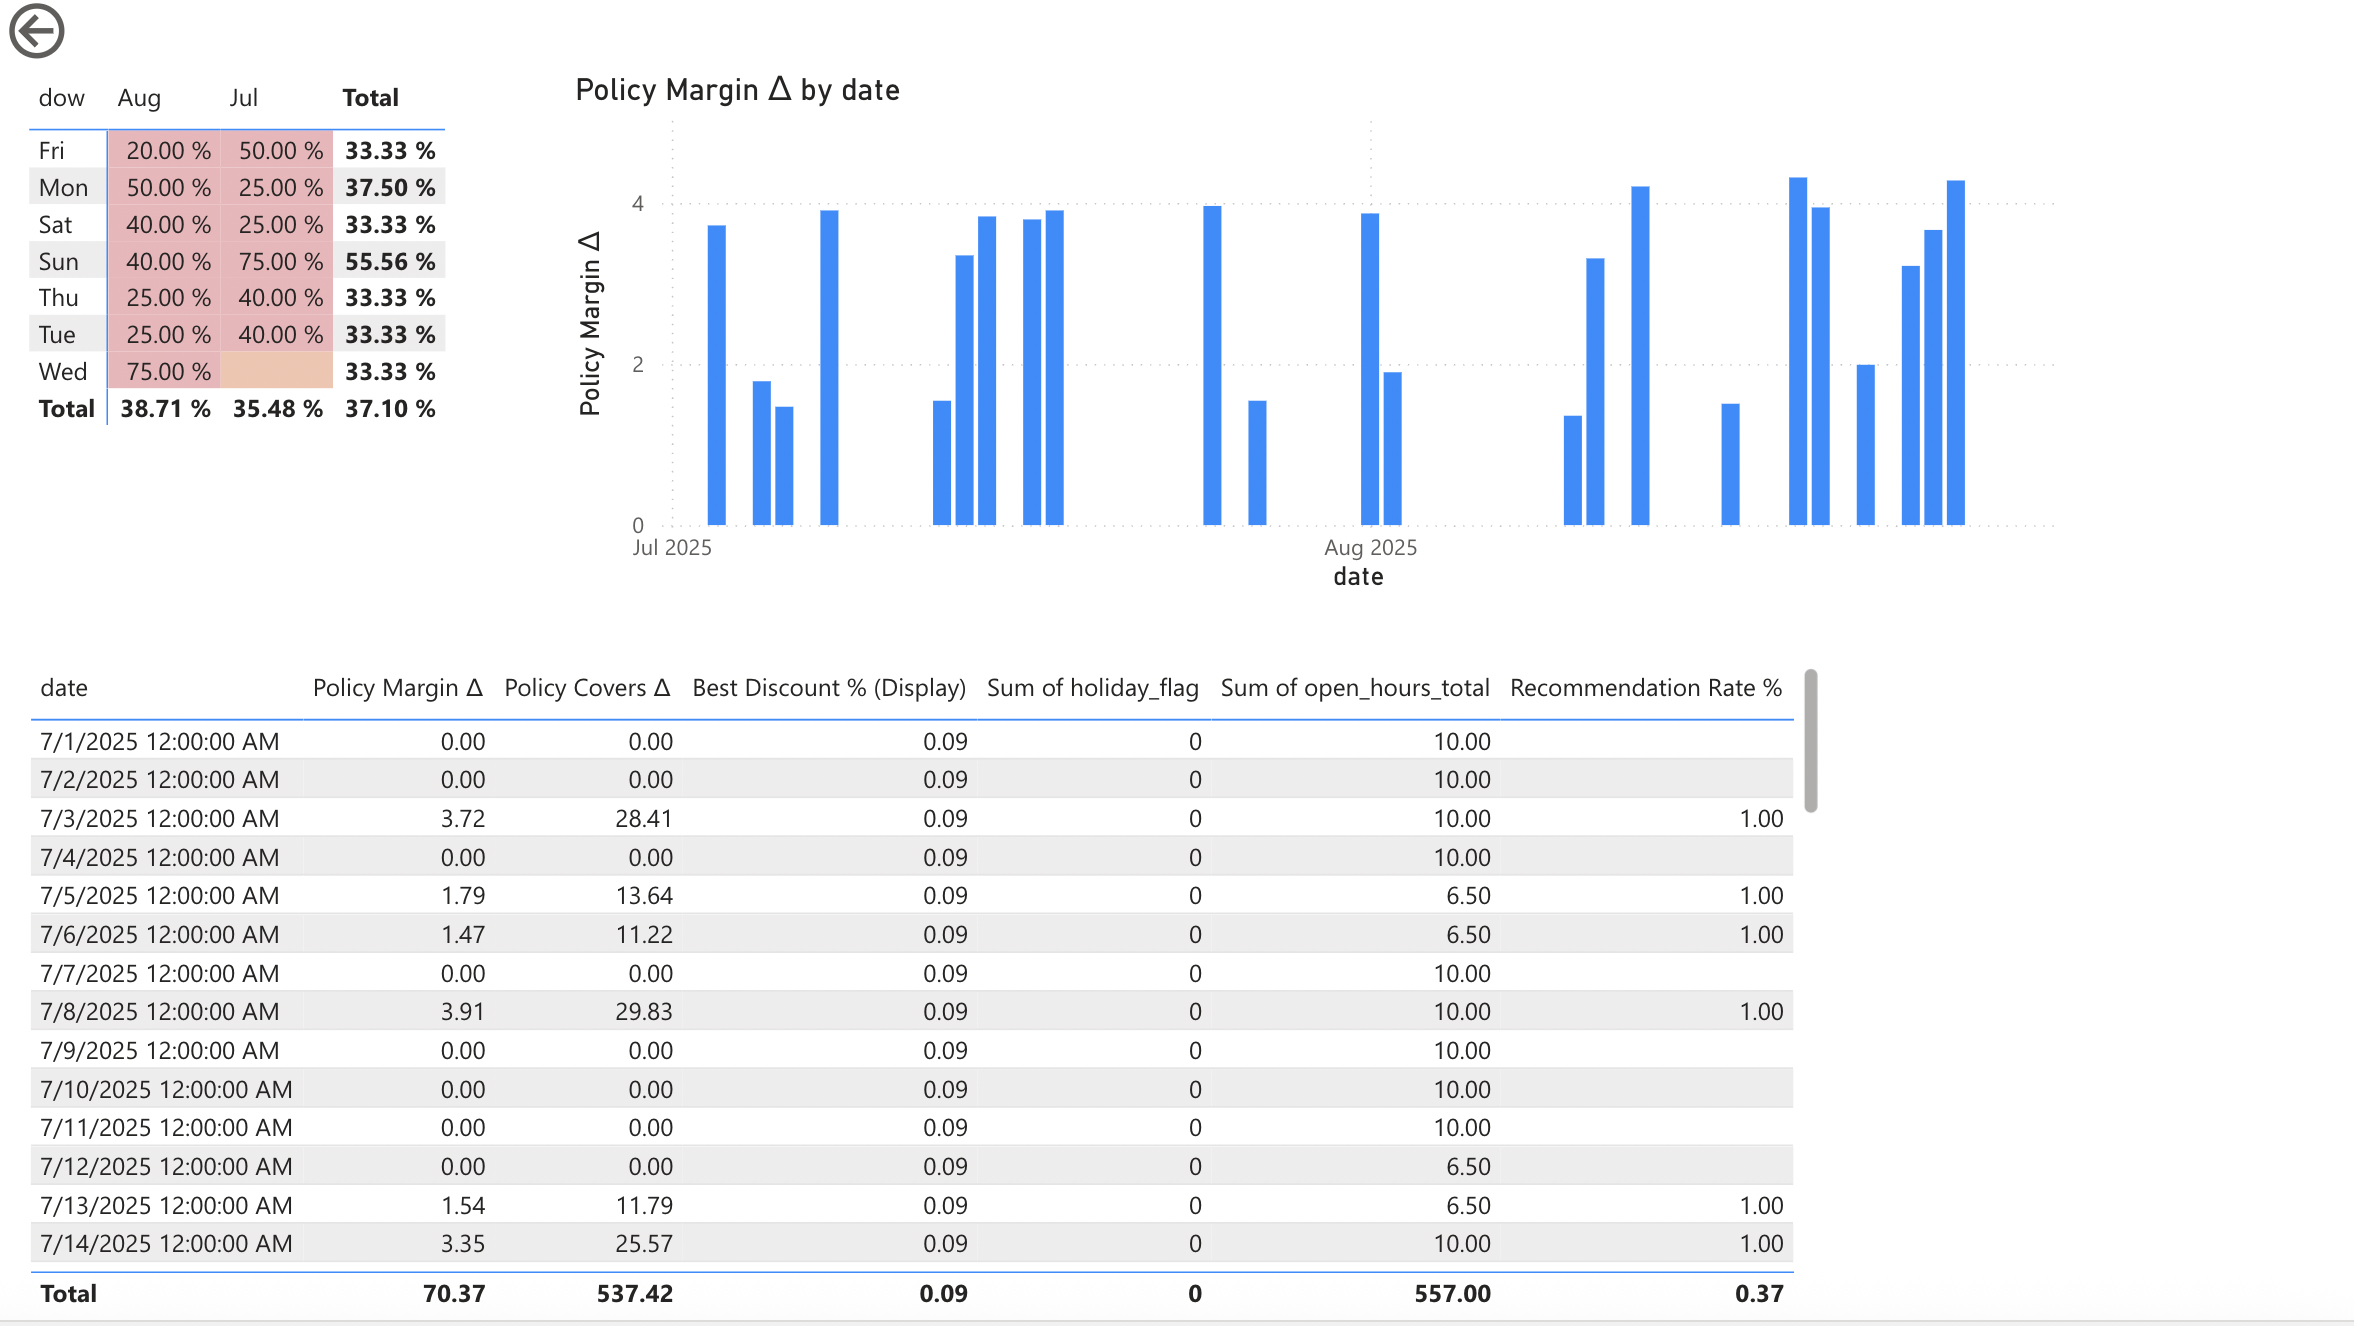

This screenshot's page, from the dashboard's own definition file:
{"tool":"powerbi","page":{"name":"Daily Planner","canvas":[1280,720],"ordinal":1},"visuals":[{"type":"pivotTable","fields":{"Rows":["gold_dim_date.dow"],"Columns":["gold_dim_date.mon"],"Values":["gold_dim_date.Recommendation Rate %"]},"box":[10.4,40,236.5,288.7],"z":0},{"type":"tableEx","fields":{"Values":["gold_dim_date.date","gold_dim_date.Policy Margin Δ","gold_dim_date.Policy Covers Δ","gold_dim_date.Best Discount % (Display)","Sum(gold_export_daily.holiday_flag)","Sum(gold_export_daily.open_hours_total)","gold_dim_date.Recommendation Rate %"]},"box":[10.9,360.6,981.9,359],"z":1000},{"type":"actionButton","box":[0,0,100,40],"z":2000},{"type":"clusteredColumnChart","fields":{"Category":["gold_dim_date.date"],"Y":["gold_dim_date.Policy Margin Δ"]},"box":[307.8,40,836.5,288.7],"z":3000}]}

Visuals, with their boxes in screenshot pixels (x1, y1, x2, y2), scaled from the page's 1280x720 canvas onto the 2354x1326 screenshot:
pivotTable - gold_dim_date.dow x gold_dim_date.mon: region(19, 74, 454, 605)
tableEx - gold_dim_date.date x gold_dim_date.Policy Margin Δ: region(20, 664, 1826, 1325)
actionButton: region(0, 0, 184, 74)
clusteredColumnChart - gold_dim_date.date x gold_dim_date.Policy Margin Δ: region(566, 74, 2104, 605)
